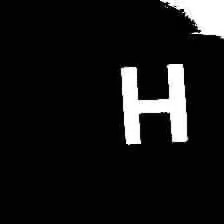LTR_H: (107, 56, 194, 150)
